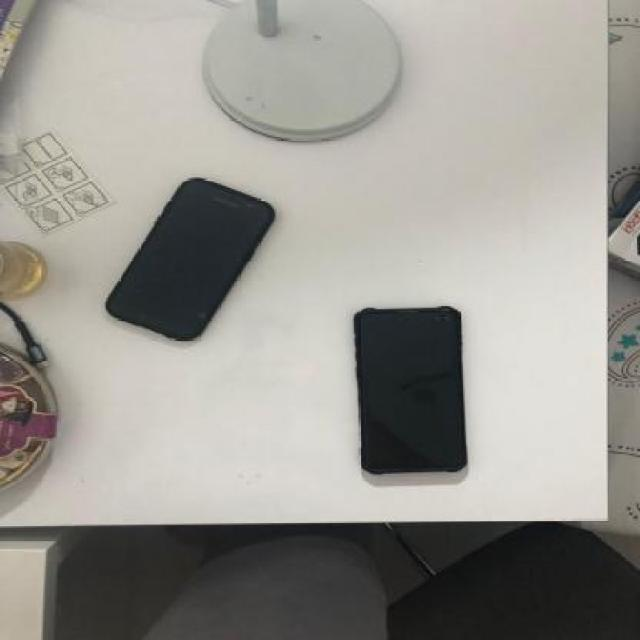phone: (104, 179, 275, 343), (351, 305, 469, 473)
